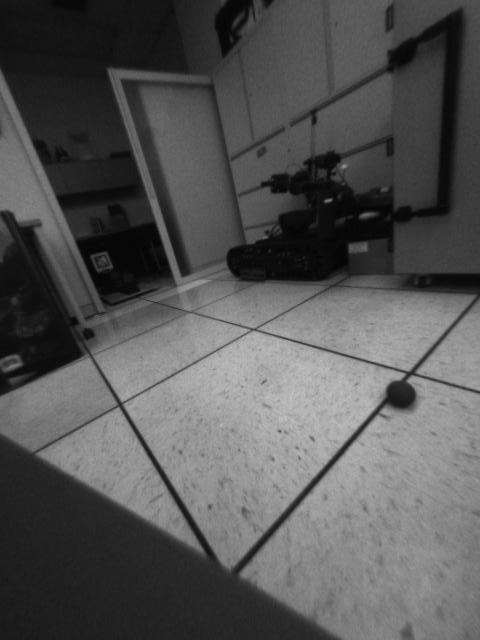dogtoy: (377, 372, 425, 419)
